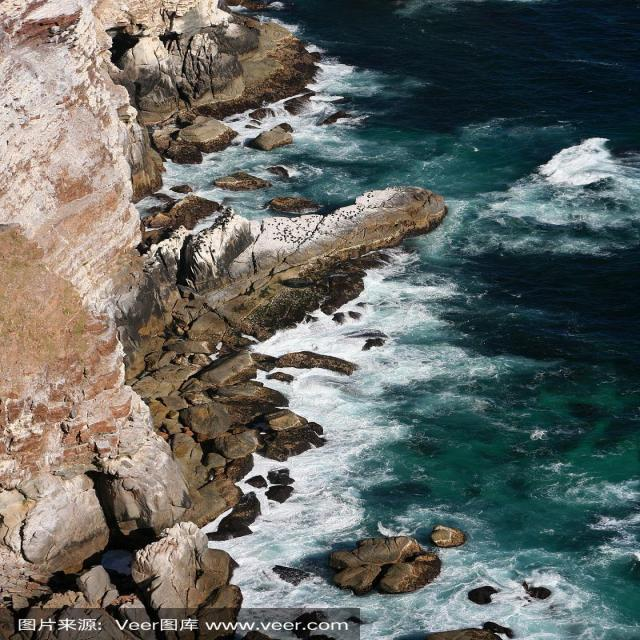reef: (195, 316, 356, 452), (202, 138, 400, 220), (294, 509, 506, 575)
